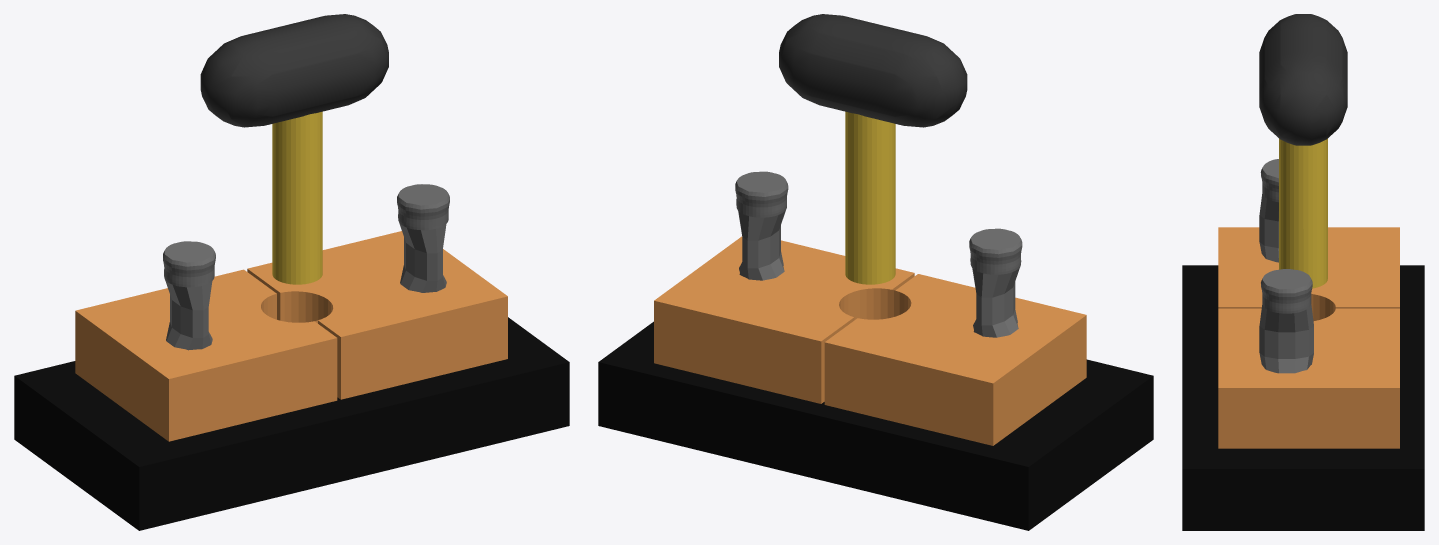
The model's file is plug key.fbx.
3 views of the same model, side by side, from view 1: azimuth 30°, elevation 25°; view 2: azimuth 150°, elevation 25°; view 3: azimuth 270°, elevation 25° (orthographic). The views are drawn at different scales.
Visible parts, largest first — view 1: Cube.002, Cube, Mball, Cylinder.004, Cylinder.005, Cylinder.003; view 2: Cube.002, Cube, Mball, Cylinder.004, Cylinder.005, Cylinder.003; view 3: Cube.002, Cube, Mball, Cylinder.004, Cylinder.003, Cylinder.005.
Boxes of the visible parts, left/top/right/bottom form: Cube.002: left=75, top=231, right=507, bottom=441; Cube: left=14, top=317, right=569, bottom=530; Mball: left=200, top=14, right=388, bottom=127; Cylinder.004: left=272, top=111, right=322, bottom=284; Cylinder.005: left=163, top=241, right=215, bottom=350; Cylinder.003: left=397, top=184, right=449, bottom=292; Cube.002: left=654, top=236, right=1086, bottom=445; Cube: left=598, top=321, right=1153, bottom=530; Mball: left=779, top=14, right=967, bottom=127; Cylinder.004: left=845, top=111, right=895, bottom=284; Cylinder.005: left=969, top=228, right=1022, bottom=337; Cylinder.003: left=735, top=171, right=788, bottom=280; Cube.002: left=1218, top=227, right=1399, bottom=448; Cube: left=1182, top=265, right=1424, bottom=530; Mball: left=1259, top=14, right=1347, bottom=145; Cylinder.004: left=1279, top=138, right=1327, bottom=288; Cylinder.003: left=1259, top=269, right=1313, bottom=373; Cylinder.005: left=1259, top=159, right=1278, bottom=262.
Bounding box in the file's own units: 9.87 × 8.82 × 4.95.
